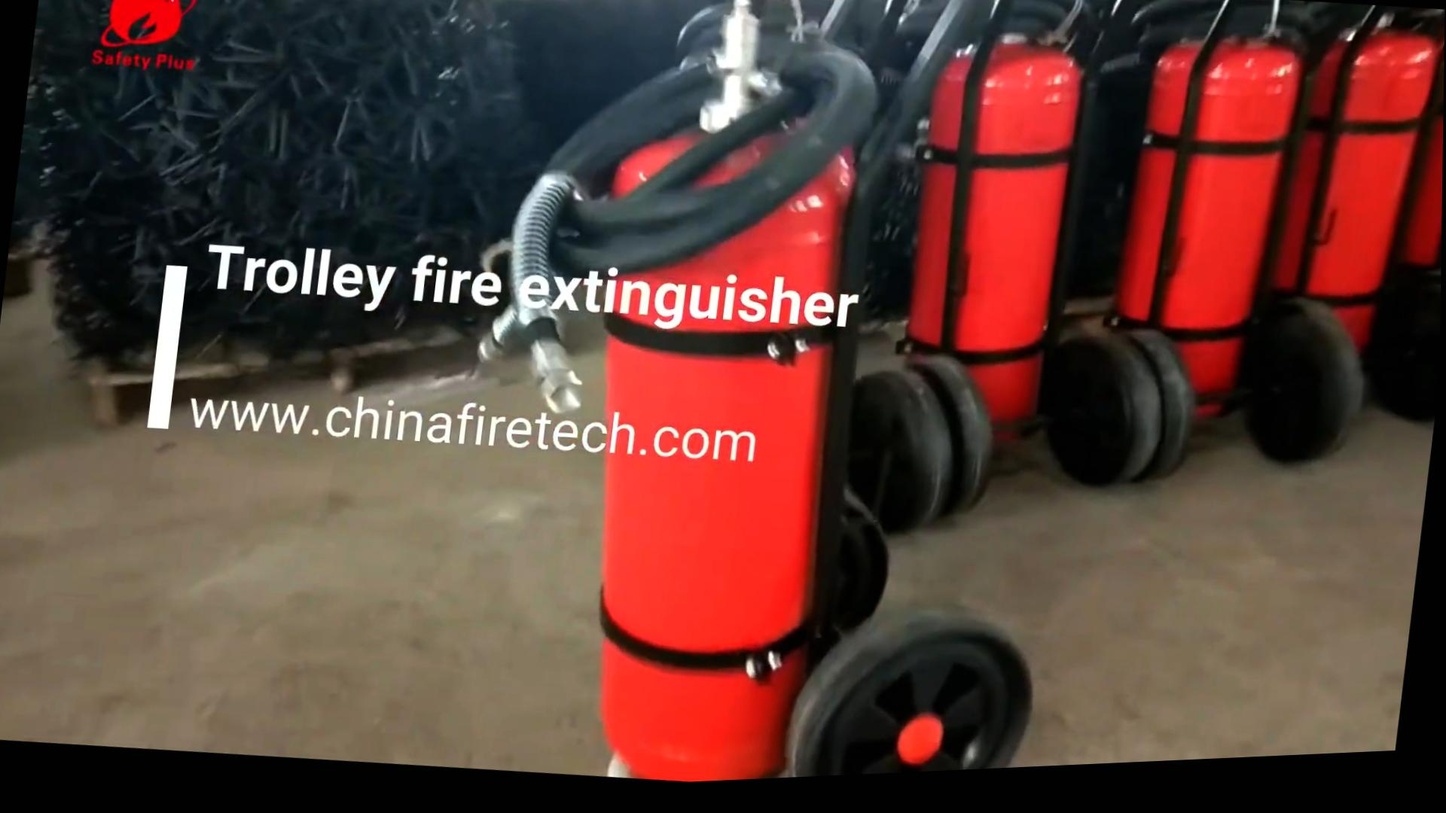FireExtinguisher: (506, 10, 889, 795), (861, 0, 1128, 544), (1072, 0, 1333, 509), (1243, 7, 1445, 453)
